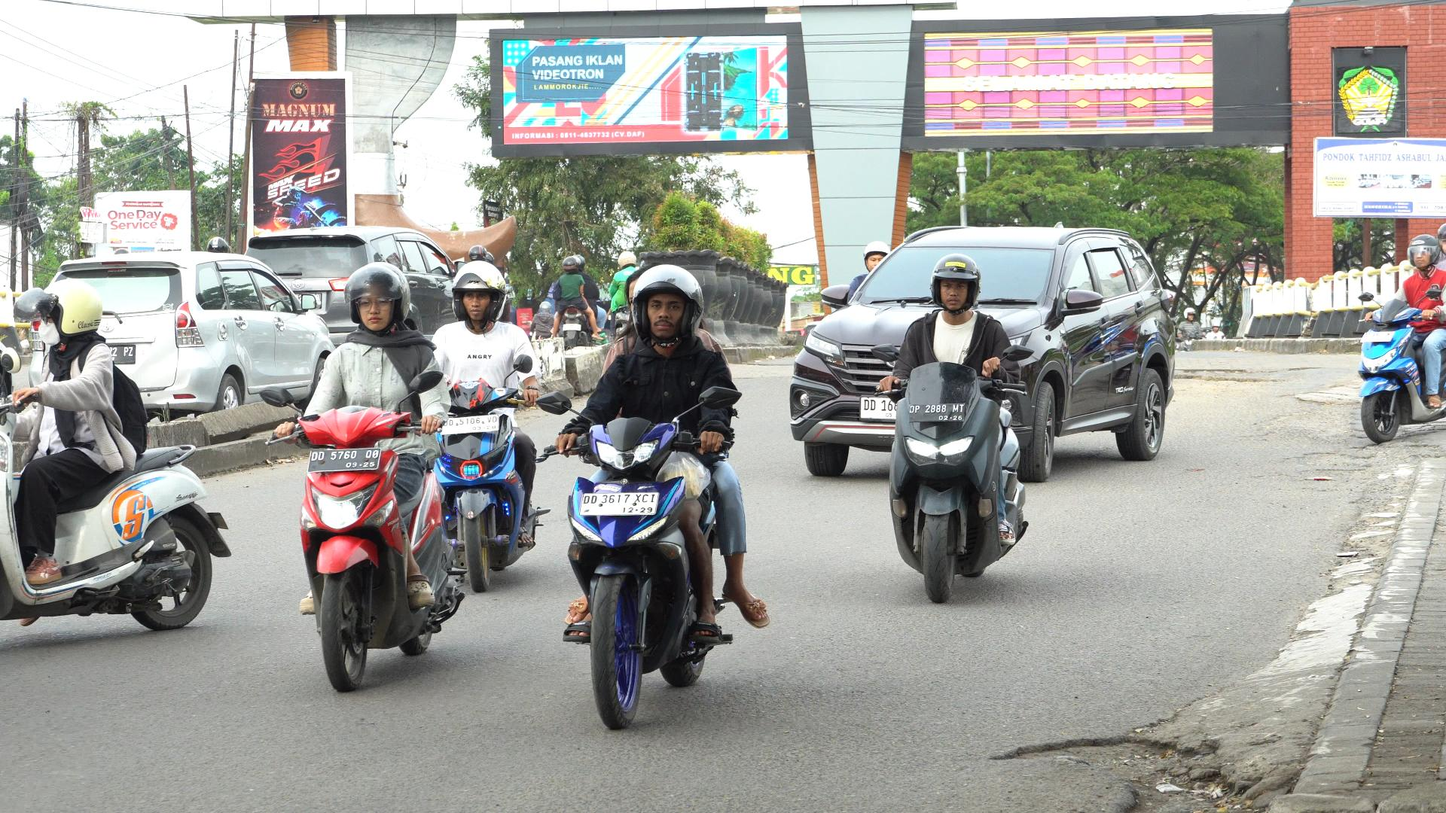number-plate: (577, 488, 661, 519), (304, 447, 379, 475), (907, 402, 965, 424)
